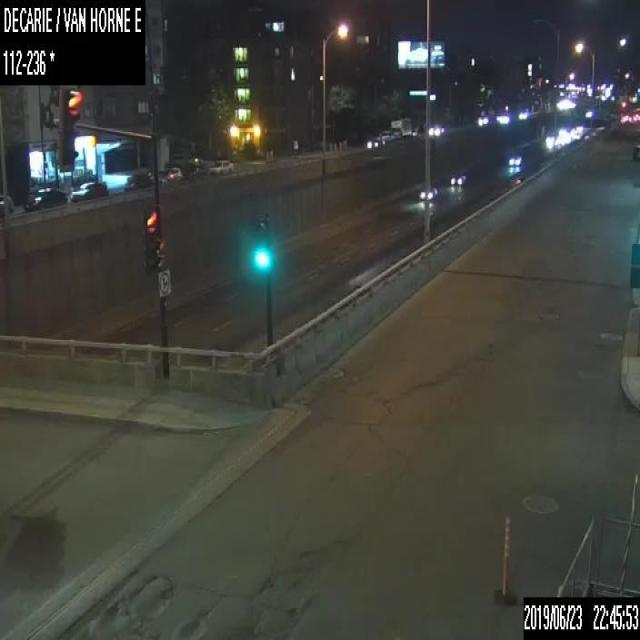construction: (495, 513, 514, 603)
vehicle: (24, 185, 66, 209), (71, 181, 109, 200), (125, 168, 152, 190), (390, 117, 410, 137), (209, 159, 233, 173), (0, 191, 13, 216), (161, 166, 181, 182), (417, 186, 438, 200), (448, 170, 466, 186), (364, 136, 384, 147), (508, 152, 523, 166), (377, 129, 393, 141), (429, 123, 444, 135), (517, 106, 529, 118), (474, 115, 487, 126)
